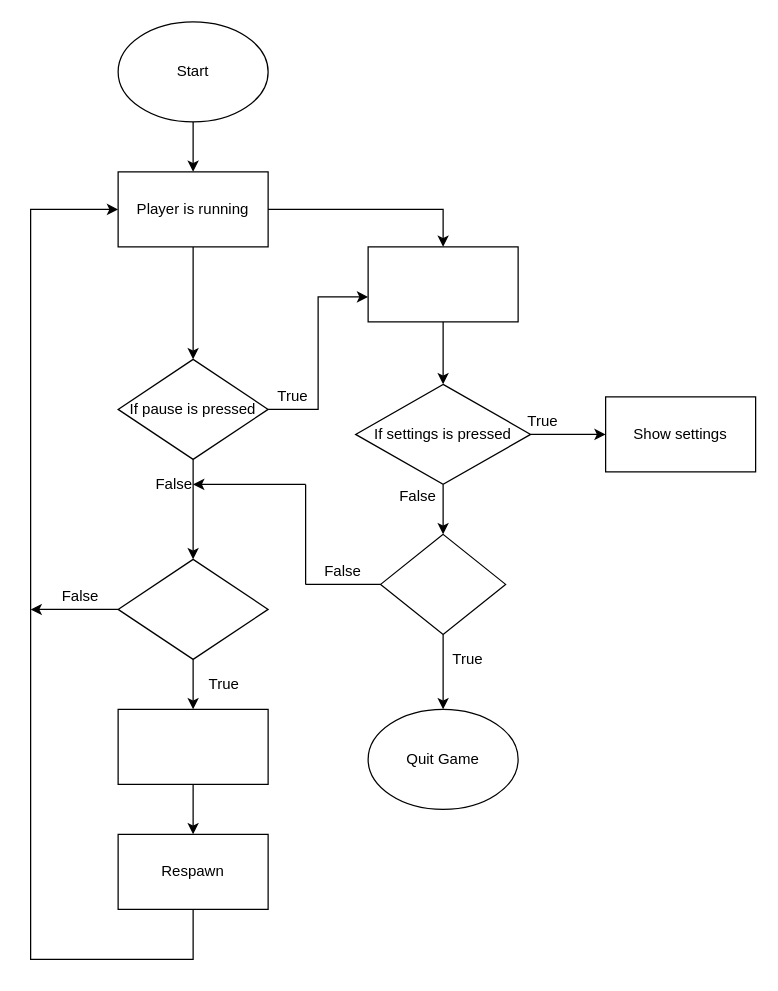
Image size: 778x991. Some labels were removed from this diagram. The shapes that lost their labels are listed below. From the top down, each one's centre as x and y in pixels, then its label:
At point 442,284: "Pause Game".
At point 442,583: "If game Quit".
At point 192,608: "If Player touches Obsticals".
At point 192,746: "Player Dead".
